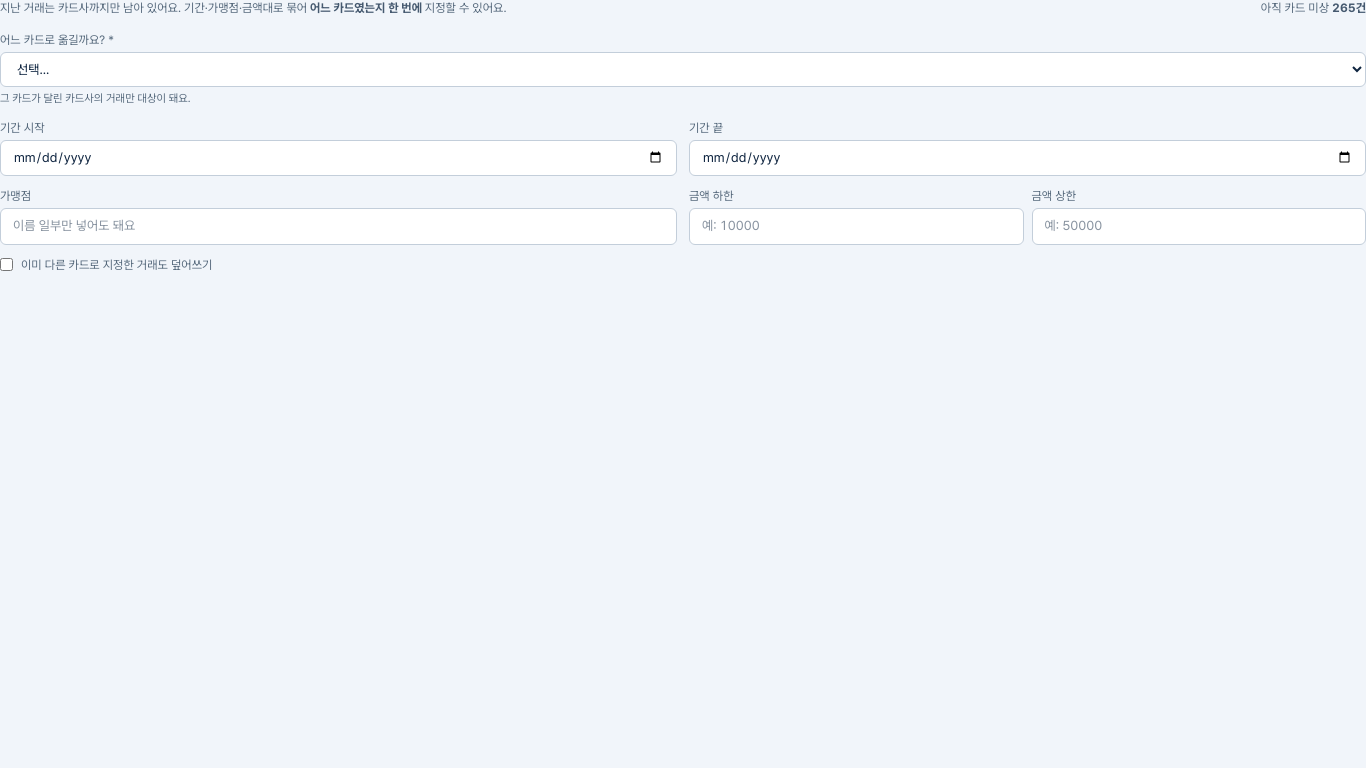
Test case: F. 실행 뒤 › F-1. 몇 건을 어디로 옮겼는지 알린다
Select "하나 A · 하나카드" in the dropdown labelled "어느 카드로 옮길까요? *" at coordinates (683, 70), box [0,52,1365,87]
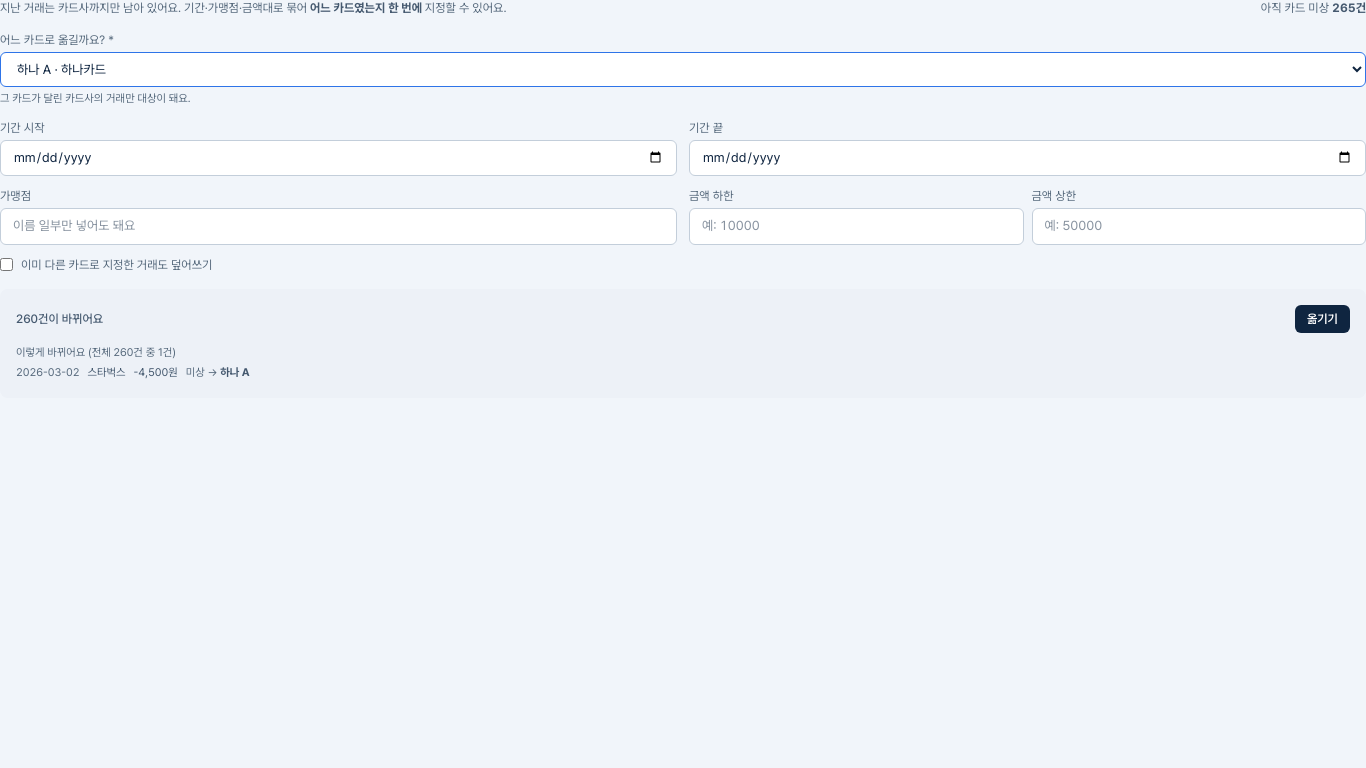
Click the button "옮기기" at coordinates (1322, 319), box [1295,305,1350,333]
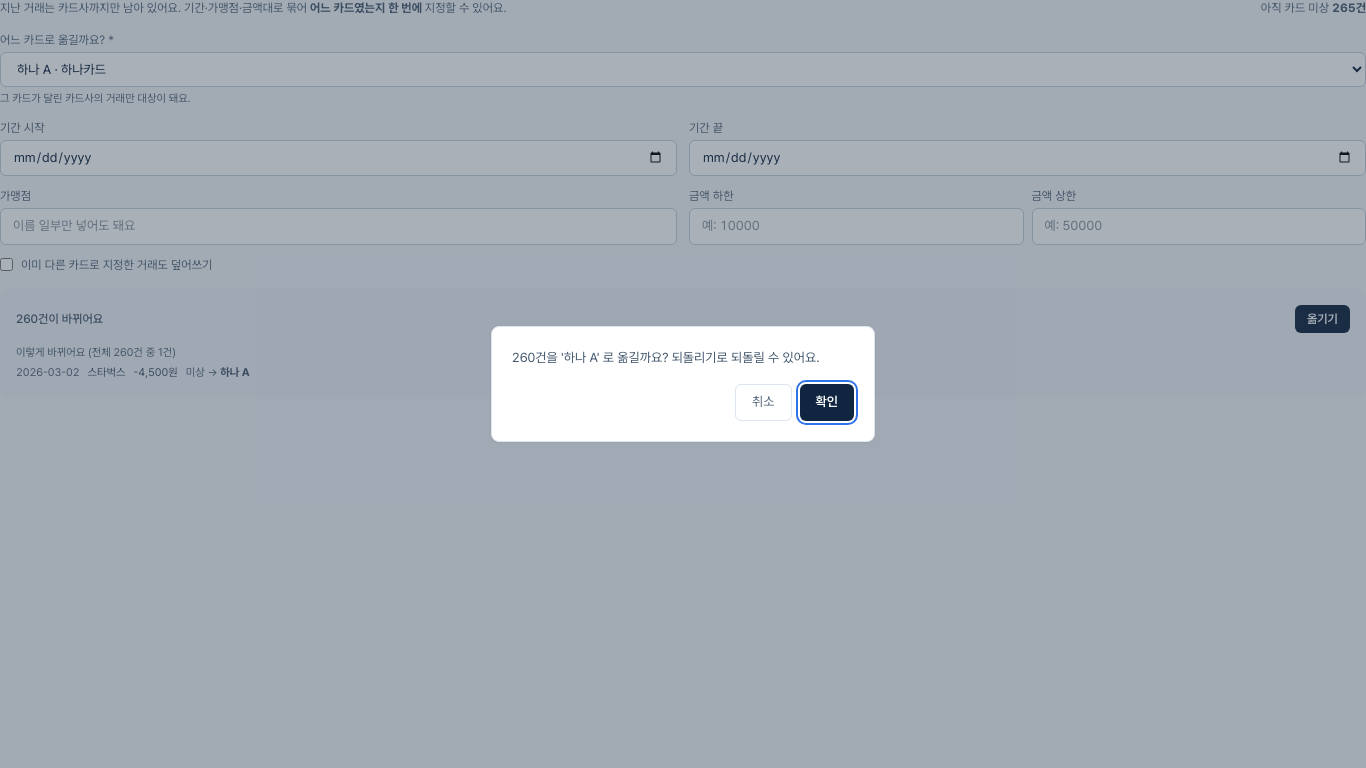
Click the button "확인" at coordinates (827, 403), box [800,384,854,421]
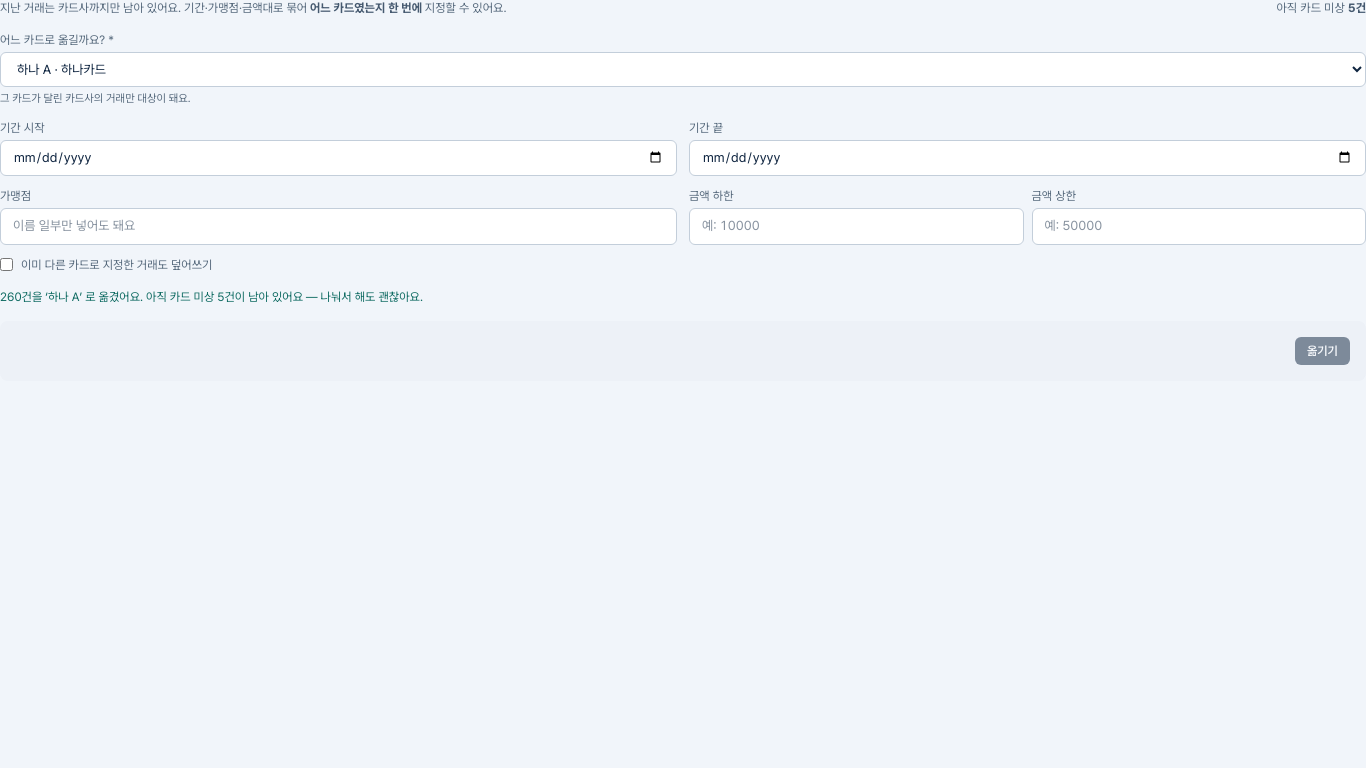
Now the message shows "260건을 ‘하나 A’ 로 옮겼어요", box [0,290,423,304]
